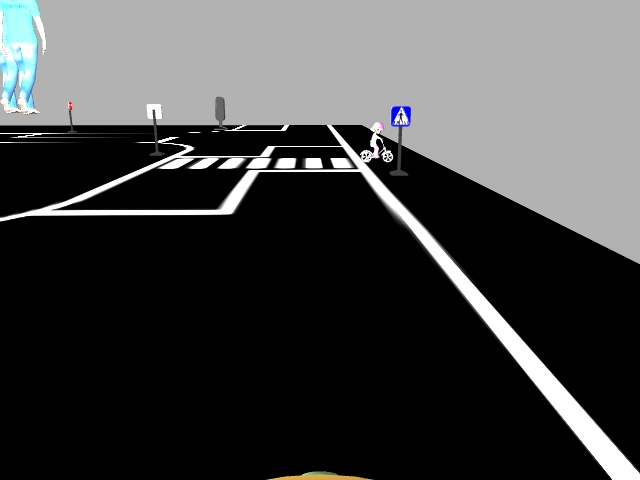Pedestrian: (359, 116, 393, 164)
